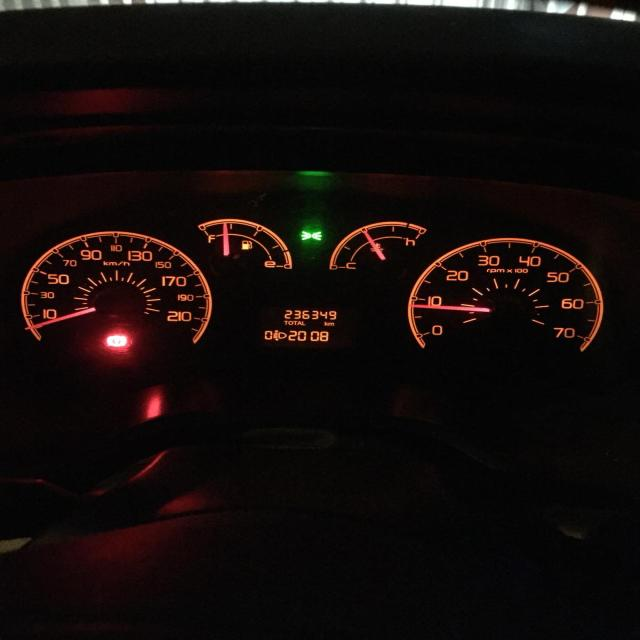odometer: (250, 302, 347, 350)
